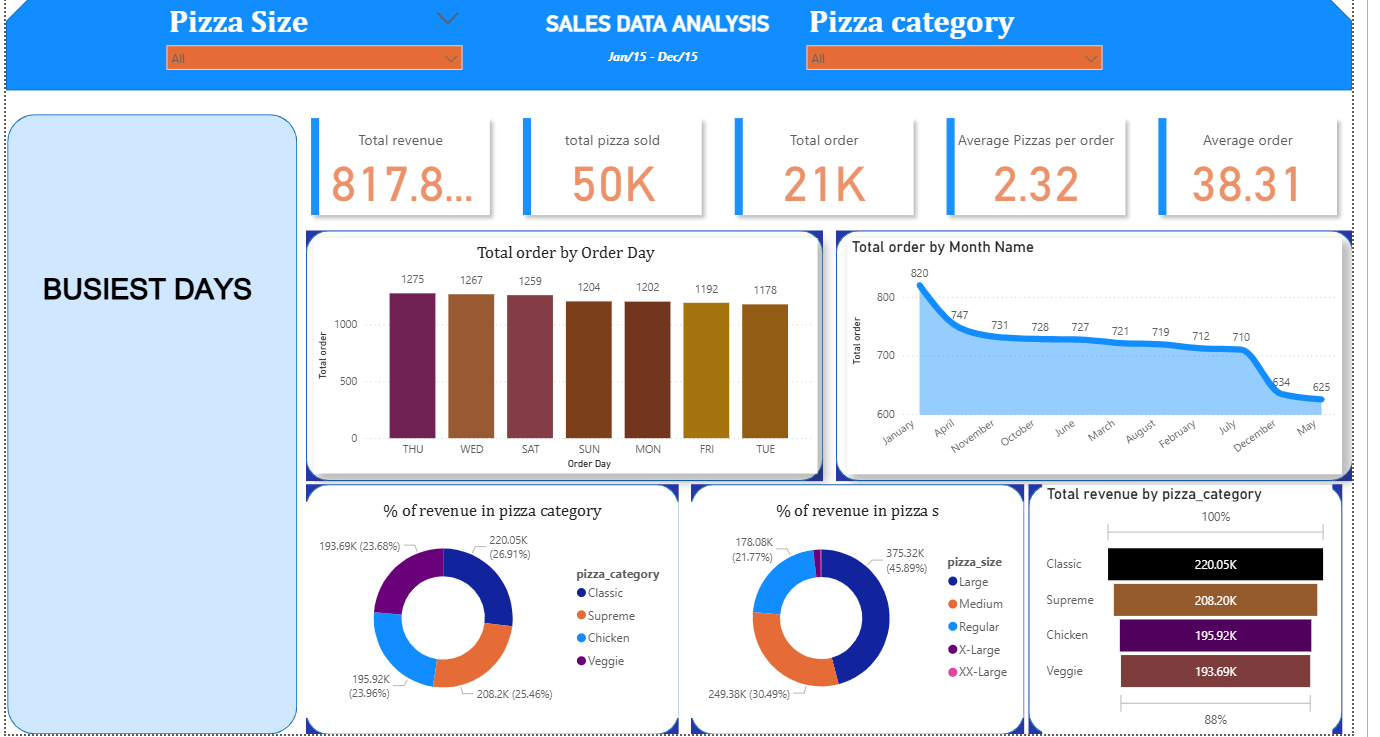

The page's visual inventory and layout, read from the dashboard file:
{"tool":"powerbi","page":{"name":"Page 1","canvas":[1500,820],"ordinal":0},"visuals":[{"type":"cardVisual","fields":{"Data":["pizza_sales.Total revenue","pizza_sales.total pizza sold","pizza_sales.Total order","pizza_sales.Average Pizzas per order","pizza_sales.Average order"]},"box":[322.9,117.1,1177.1,142.9],"z":0},{"type":"shape","box":[0,0,1499.9,103.1],"z":1000},{"type":"textbox","box":[585.7,10,285.7,54.3],"z":2000},{"type":"textbox","box":[665.7,51.5,126.7,33.4],"z":3000},{"type":"shape","box":[334.9,259.4,576.2,279.1],"z":4000},{"type":"lineStackedColumnComboChart","fields":{"Category":["pizza_sales.Order Day"],"Y":["pizza_sales.Total order"]},"box":[343.1,267.6,561.4,262.6],"z":5000},{"type":"shape","box":[924.2,259.4,576.2,279.1],"z":6000},{"type":"areaChart","fields":{"Y":["pizza_sales.Total order"],"Category":["pizza_sales.Month Name"]},"box":[937.3,267.4,551.5,263.2],"z":7000},{"type":"shape","box":[334.9,541.7,415.3,279.1],"z":8000},{"type":"shape","box":[763.3,541.7,371,279.1],"z":9000},{"type":"shape","box":[1139.2,541.7,349.6,278.5],"z":10000},{"type":"donutChart","title":"% of revenue in pizza category","fields":{"Category":["pizza_sales.pizza_category","pizza_sales.pizza_category"],"Y":["pizza_sales.Total revenue"]},"box":[334.2,561.2,415,240.9],"z":11000},{"type":"donutChart","title":"% of revenue in pizza s","fields":{"Y":["pizza_sales.Total revenue"],"Category":["pizza_sales.pizza_size","pizza_sales.pizza_size"]},"box":[763.2,561.2,370.5,240.9],"z":12000},{"type":"slicer","title":"Pizza _ category","fields":{"Values":["pizza_sales.pizza_category"]},"box":[881.2,0,350,103.2],"z":13000},{"type":"shape","box":[1.4,129.5,323.1,690.8],"z":14000},{"type":"textbox","box":[0,296.6,323.1,68.2],"z":15000},{"type":"funnel","fields":{"Category":["pizza_sales.pizza_category","pizza_sales.pizza_category"],"Y":["pizza_sales.Total revenue"]},"box":[1154.5,541.7,323.1,278.5],"z":16000},{"type":"slicer","title":"Pizza _ category","fields":{"Values":["pizza_sales.pizza_size"]},"box":[168.7,0,350,103.2],"z":17000}]}

Visuals, with their boxes in screenshot pixels (x1, y1, x2, y2), scaled from the page's 1500x820 canvas onto the 1380x737 screenshot:
cardVisual - pizza_sales.Total revenue x pizza_sales.total pizza sold: locate(297, 105, 1379, 234)
shape: locate(0, 0, 1379, 93)
textbox: locate(539, 9, 802, 58)
textbox: locate(612, 46, 729, 76)
shape: locate(308, 233, 838, 484)
lineStackedColumnComboChart - pizza_sales.Order Day x pizza_sales.Total order: locate(316, 241, 832, 477)
shape: locate(850, 233, 1379, 484)
areaChart - pizza_sales.Total order x pizza_sales.Month Name: locate(862, 240, 1370, 477)
shape: locate(308, 487, 690, 736)
shape: locate(702, 487, 1044, 736)
shape: locate(1048, 487, 1370, 736)
"% of revenue in pizza category" donutChart: locate(307, 504, 689, 721)
"% of revenue in pizza s" donutChart: locate(702, 504, 1043, 721)
"Pizza _ category" slicer: locate(811, 0, 1133, 93)
shape: locate(1, 116, 299, 736)
textbox: locate(0, 267, 297, 328)
funnel - pizza_sales.pizza_category x pizza_sales.pizza_category: locate(1062, 487, 1359, 736)
"Pizza _ category" slicer: locate(155, 0, 477, 93)
